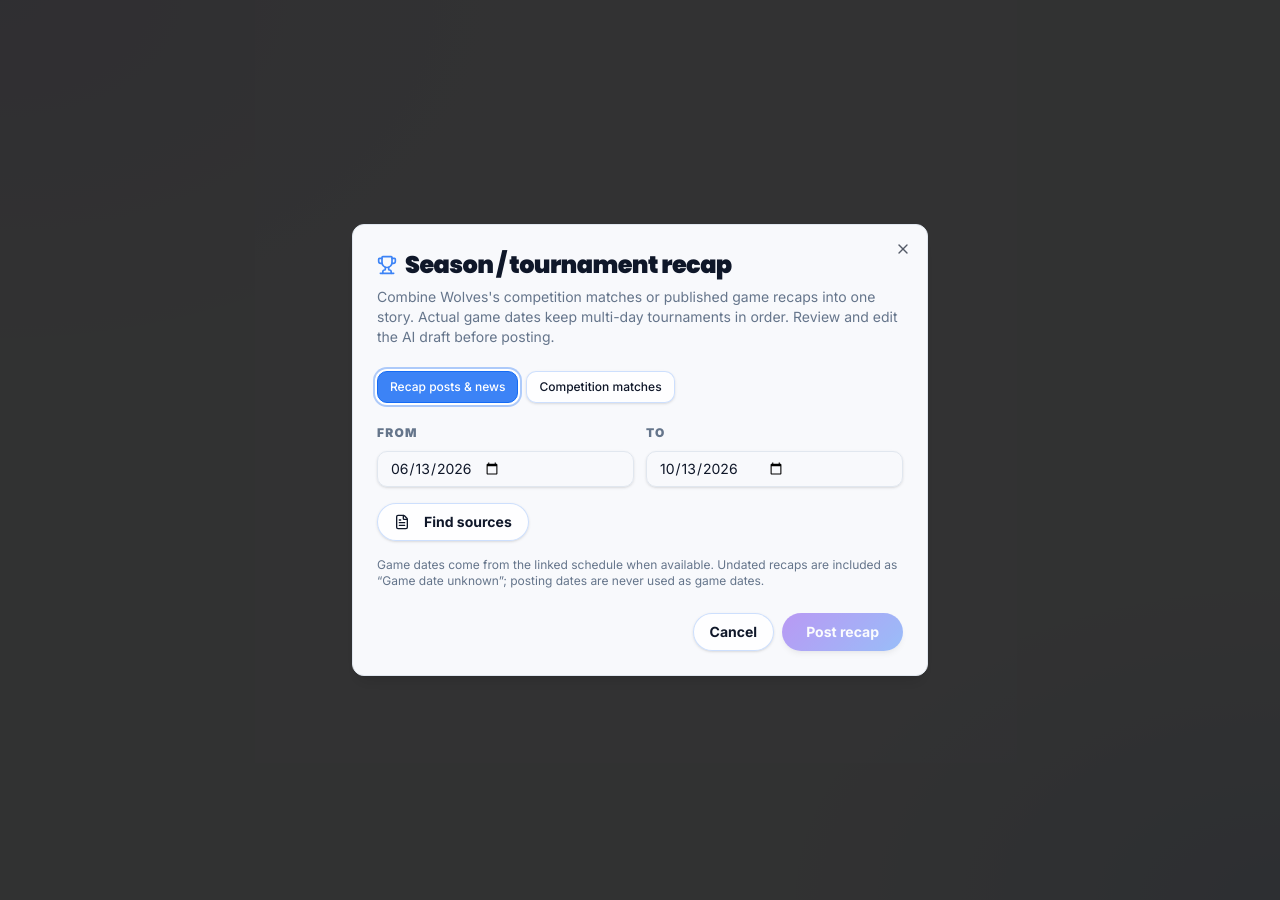
Test: Combined Recap competition matches › keeps the editor mounted when coaches clear and replace the generated text
Click the button with test id "button-season-recap-competition-mode".
click(600, 387)  # box 526,371 -> 675,403
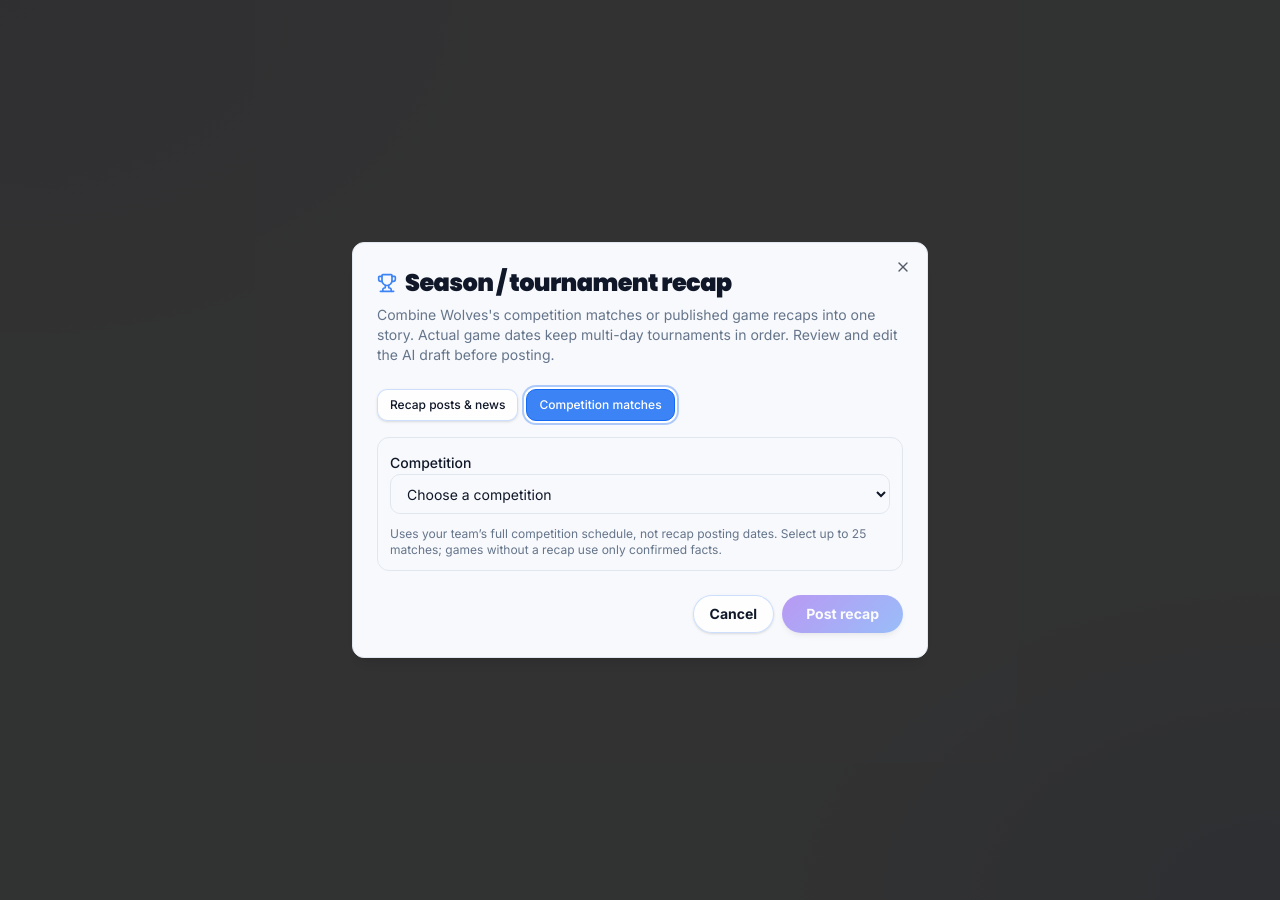
Select "Weekend Cup · 2026-10-03 – 2026-10-04" in the dropdown with test id "select-season-recap-competition" at (640, 494), box 390,474 -> 890,514
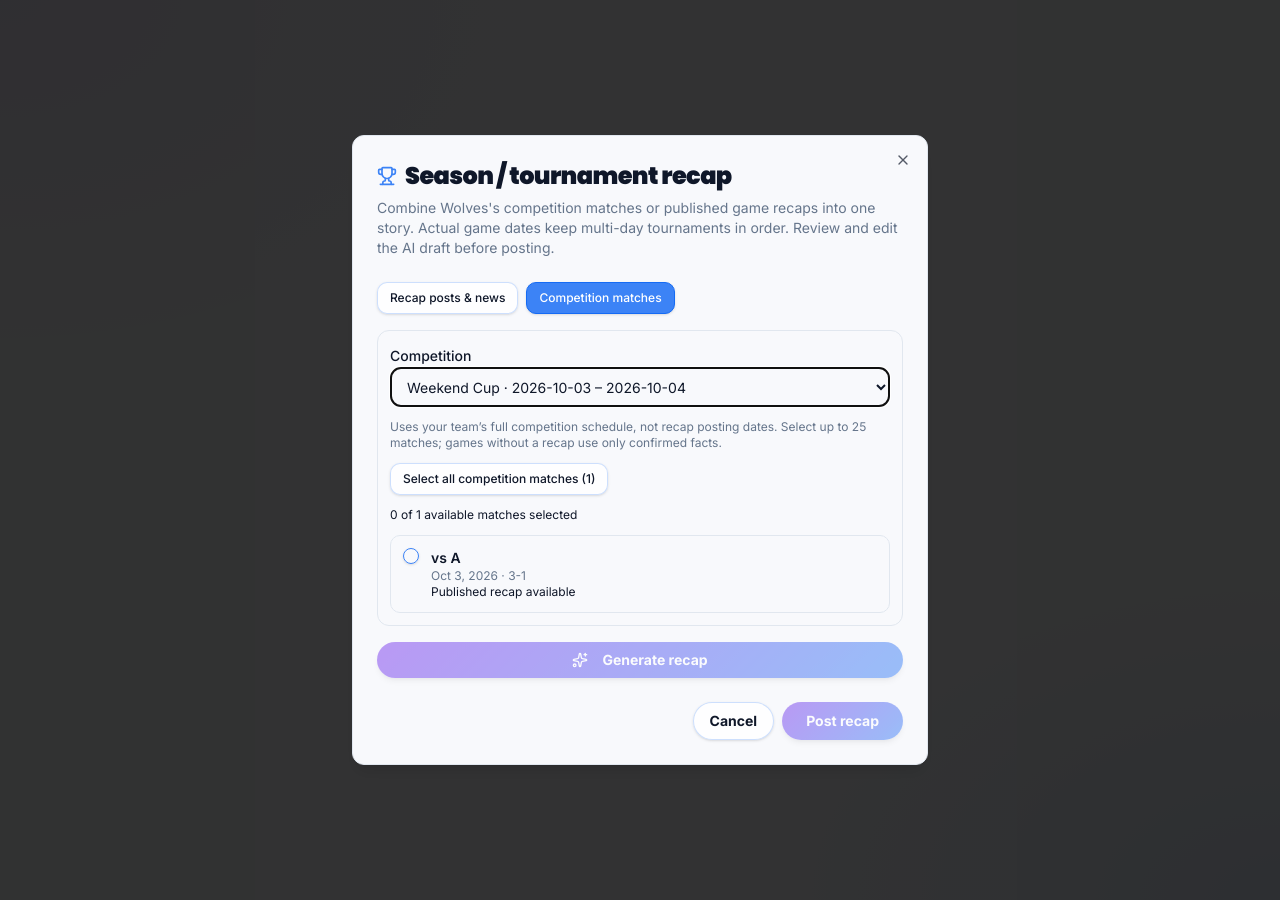
expect the button with test id "button-select-all-competition-matches" is shown: met
Click the button with test id "button-select-all-competition-matches".
click(499, 479)  # box 390,463 -> 608,495
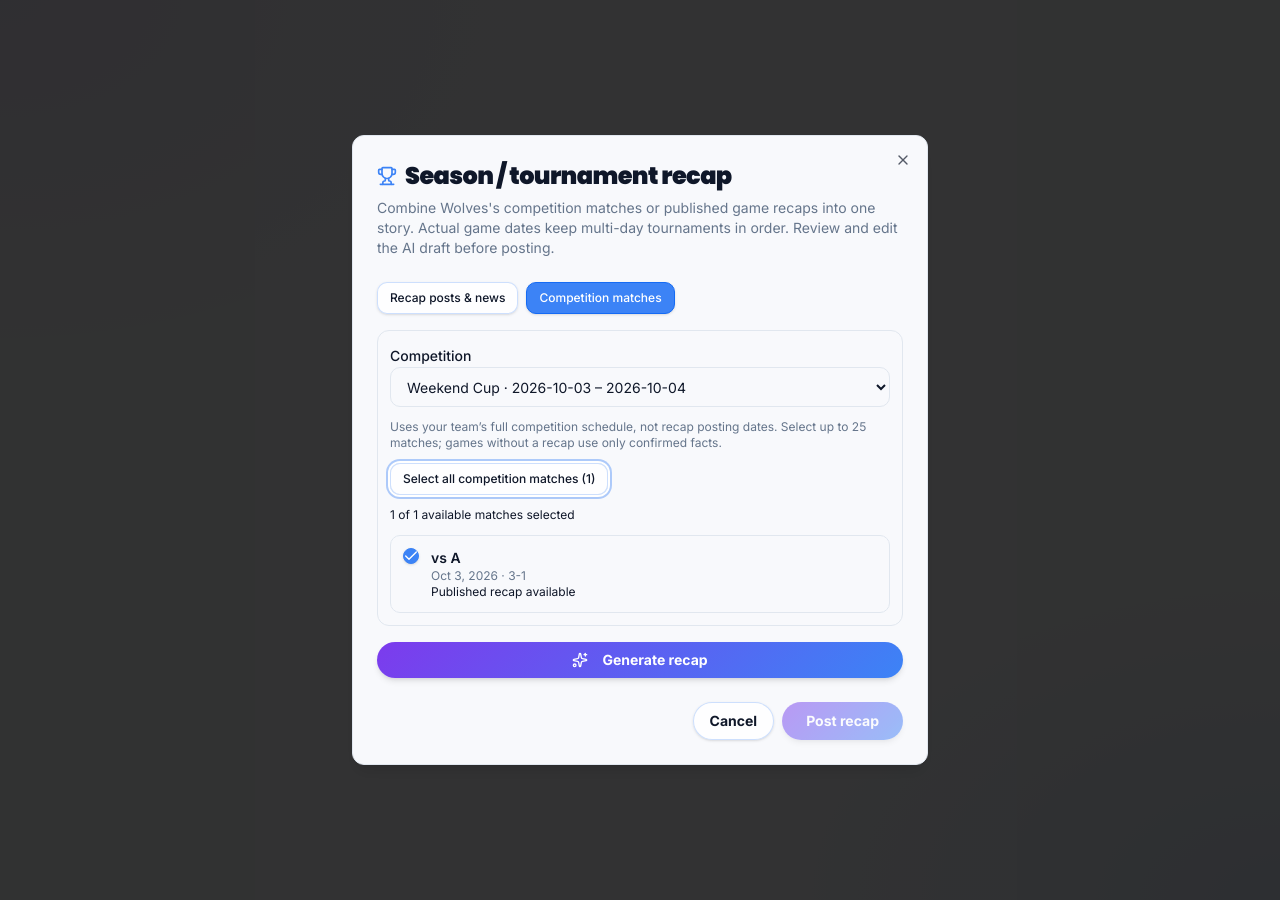
Click the button with test id "button-season-recap-generate".
click(640, 660)  # box 377,642 -> 903,678
(page scrolled)
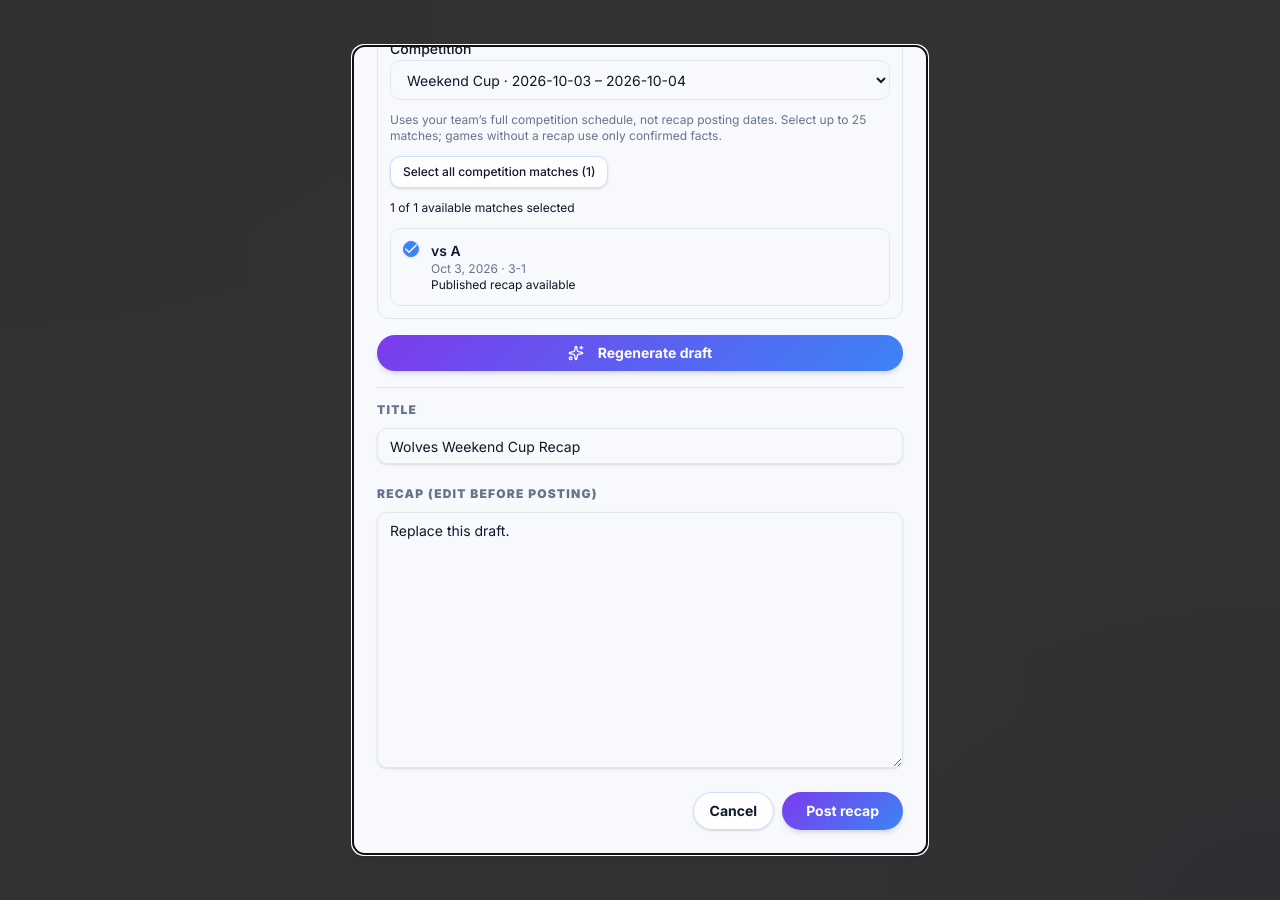
Clear the text box with test id "textarea-season-recap-body" at (640, 640), box 377,512 -> 903,768
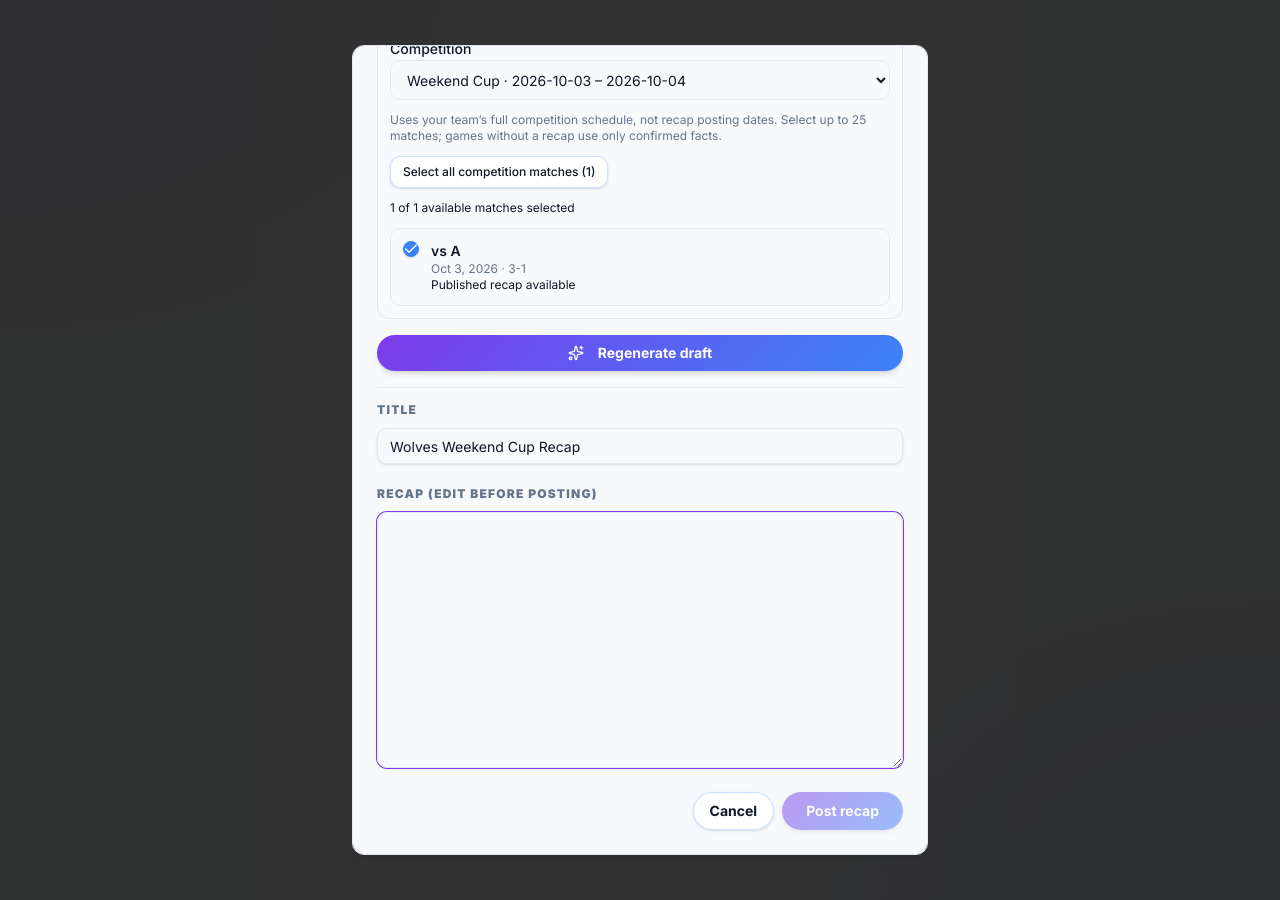
expect the button with test id "button-season-recap-publish" is disabled: met, box 782,792 -> 903,830
Type "My rewritten weekend story." into the text box with test id "textarea-season-recap-body".
click(640, 640); type("My rewritten weekend story.")  # box 377,512 -> 903,768
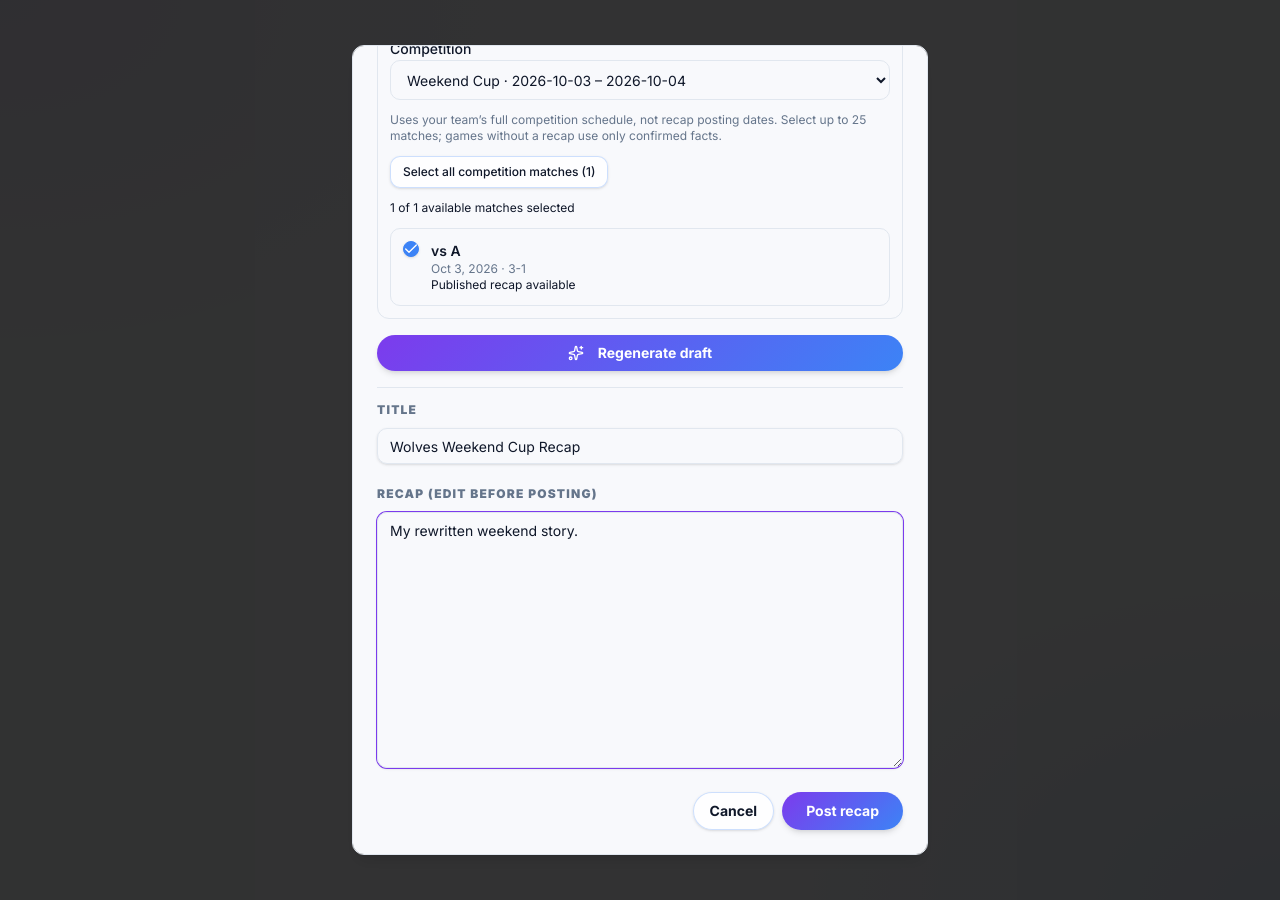
expect the button with test id "button-season-recap-publish" is enabled: met, box 782,792 -> 903,830
